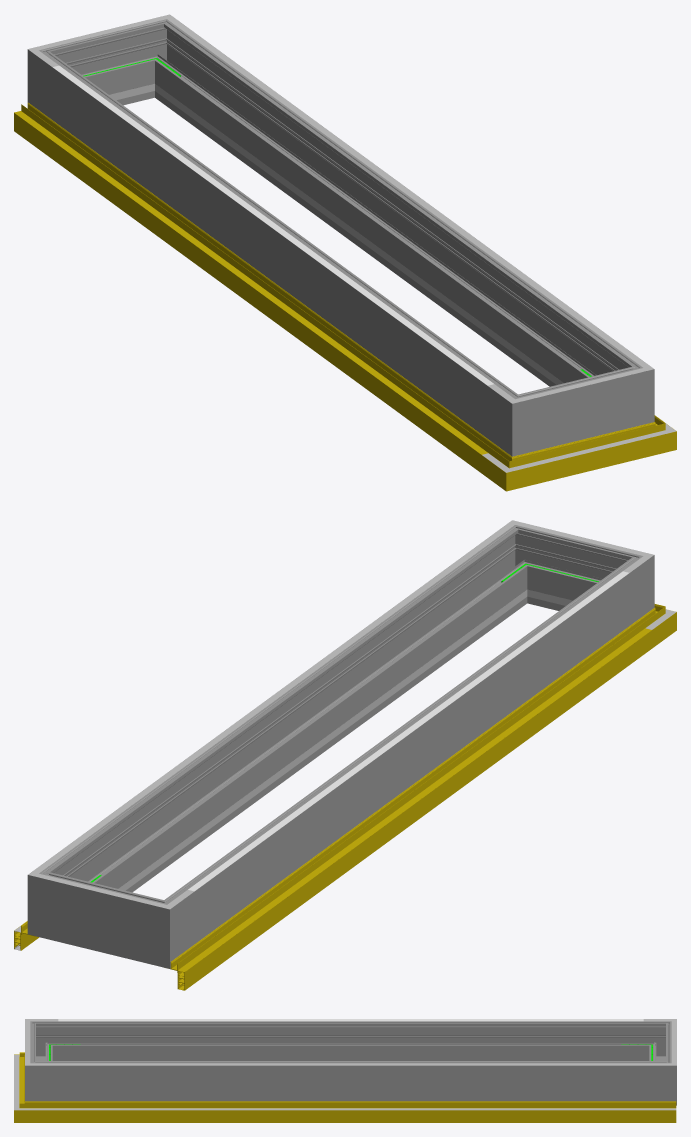
3 views of the same model, one above another, from view 1: azimuth 30°, elevation 25°; view 2: azimuth 150°, elevation 25°; view 3: azimuth 270°, elevation 25° (orthographic). The views are drawn at different scales.
Visible parts, largest first — view 1: 3DGeom-297, 3DGeom-268, 3DGeom-85, 3DGeom-270, 3DGeom-276, 3DGeom-105, 3DGeom-298, 3DGeom-303, 3DGeom-313, 3DGeom-237, 3DGeom-290, 3DGeom-90 (+4 smaller); view 2: 3DGeom-297, 3DGeom-268, 3DGeom-85, 3DGeom-278, 3DGeom-276, 3DGeom-298, 3DGeom-105, 3DGeom-313, 3DGeom-303, 3DGeom-284, 3DGeom-237, 3DGeom-290 (+2 smaller); view 3: 3DGeom-268, 3DGeom-297, 3DGeom-97, 3DGeom-98, 3DGeom-303, 3DGeom-313, 3DGeom-290, 3DGeom-284, 3DGeom-270, 3DGeom-278, 3DGeom-92, 3DGeom-276 (+1 smaller).
Part boxes in pixels (box(x1,y1,x2,y2)): 3DGeom-297: box(159, 34, 628, 386); 3DGeom-268: box(52, 64, 501, 438); 3DGeom-85: box(14, 102, 495, 473); 3DGeom-270: box(487, 382, 554, 456); 3DGeom-276: box(74, 28, 147, 105); 3DGeom-105: box(14, 111, 487, 454); 3DGeom-298: box(547, 373, 611, 446); 3DGeom-303: box(188, 32, 629, 352); 3DGeom-313: box(53, 65, 493, 385); 3DGeom-237: box(178, 101, 563, 384); 3DGeom-290: box(604, 353, 654, 432); 3DGeom-90: box(541, 429, 634, 480); 3DGeom-297: box(58, 540, 523, 892); 3DGeom-268: box(181, 569, 629, 943); 3DGeom-85: box(170, 619, 652, 990); 3DGeom-278: box(127, 888, 194, 968); 3DGeom-276: box(70, 879, 134, 958); 3DGeom-298: box(534, 533, 607, 610); 3DGeom-105: box(178, 628, 651, 973); 3DGeom-313: box(188, 571, 628, 891); 3DGeom-303: box(53, 538, 493, 858); 3DGeom-284: box(27, 857, 78, 944); 3DGeom-237: box(118, 607, 503, 890); 3DGeom-290: box(490, 523, 550, 605); 3DGeom-268: box(58, 1021, 643, 1060); 3DGeom-297: box(58, 1061, 643, 1101); 3DGeom-97: box(47, 1101, 676, 1122); 3DGeom-98: box(47, 1108, 676, 1110); 3DGeom-303: box(58, 1063, 643, 1065); 3DGeom-313: box(58, 1019, 643, 1021); 3DGeom-290: box(25, 1051, 58, 1101); 3DGeom-284: box(644, 1051, 676, 1105); 3DGeom-270: box(30, 1021, 58, 1060); 3DGeom-278: box(644, 1021, 671, 1060); 3DGeom-92: box(14, 1092, 46, 1122); 3DGeom-276: box(649, 1033, 671, 1060).
Size of the model in its own units: 0.6096 by 0.2667 by 3.05.
